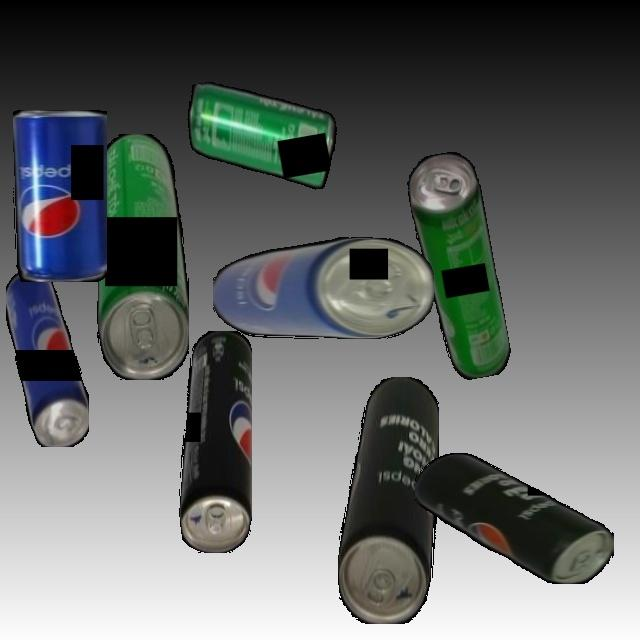debris: (415, 452, 614, 584), (403, 148, 514, 384), (337, 376, 439, 624), (181, 62, 346, 209), (96, 133, 189, 380), (212, 237, 434, 339), (178, 330, 252, 553), (13, 109, 107, 282), (5, 271, 89, 447)
